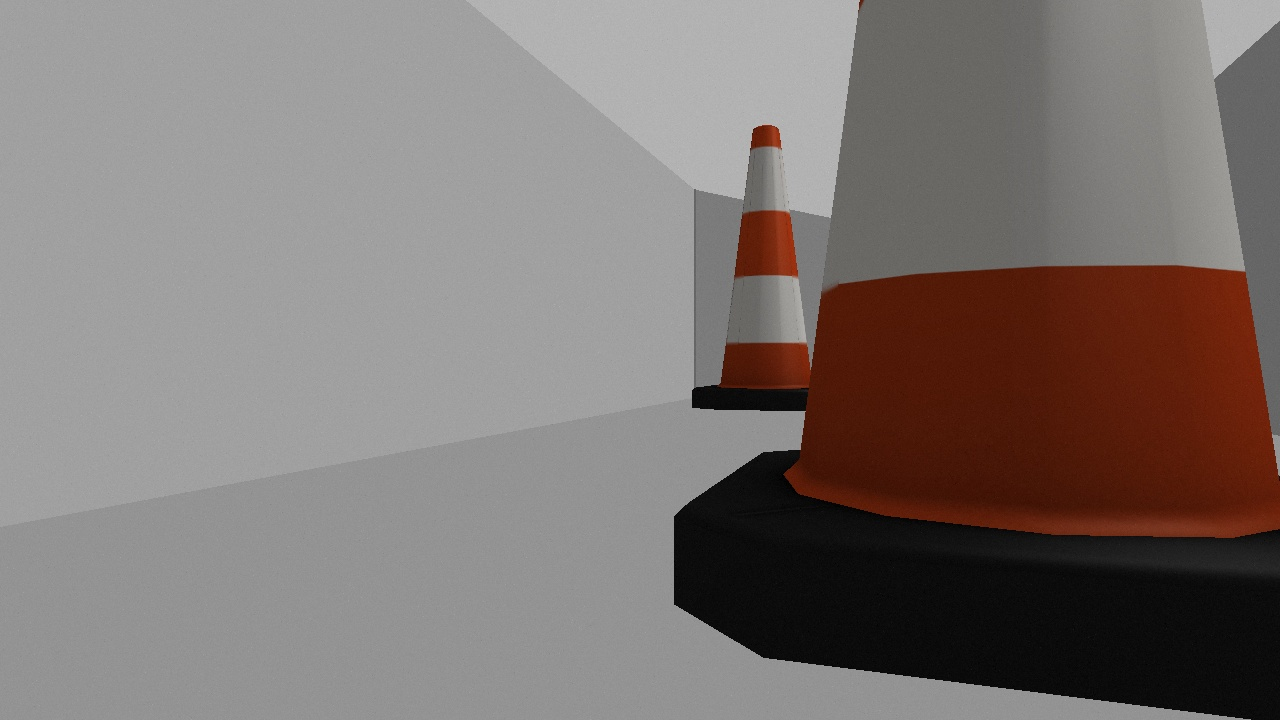barricade: (651, 1, 1280, 720), (686, 115, 851, 423)
